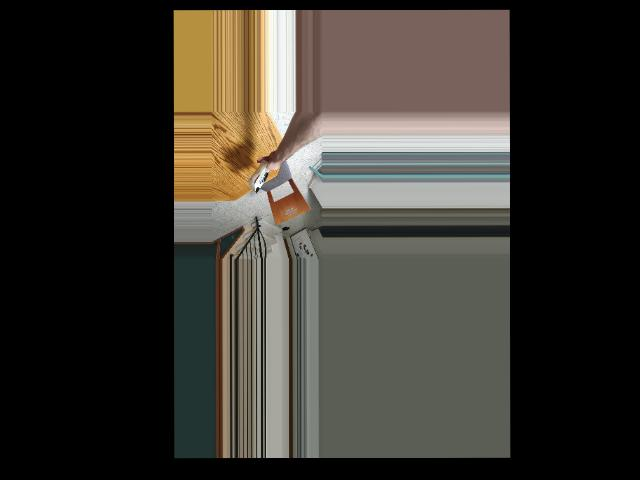cheese: (247, 159, 271, 194)
